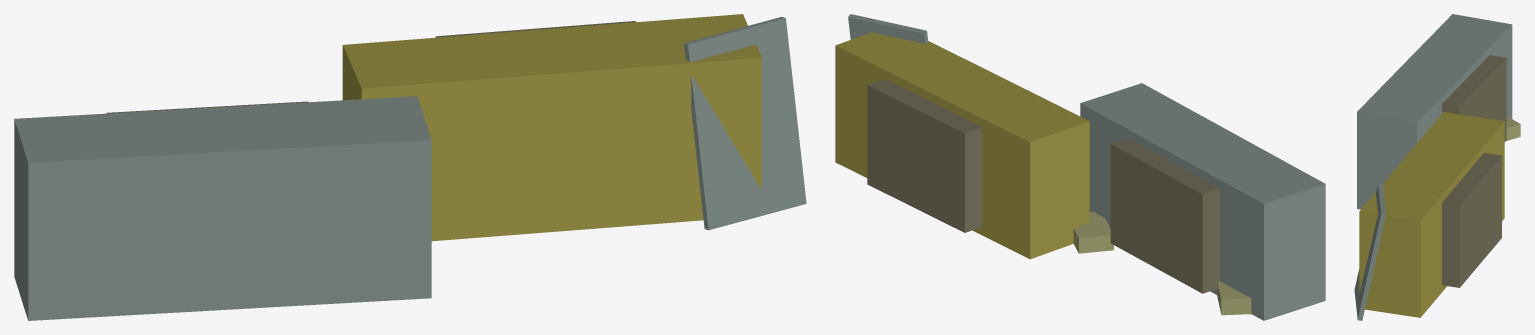
File: SM_BarricadaCivil_v0_Coches_e2_MuyDanado_LOD1.fbx
3 renders of one model, left to right at view 1: azimuth 30°, elevation 25°; view 2: azimuth 150°, elevation 25°; view 3: azimuth 270°, elevation 25°, orthographic. The views are drawn at different scales.
Visible parts, largest first — view 1: SM_barricada_civil_v2_LOD1; view 2: SM_barricada_civil_v2_LOD1; view 3: SM_barricada_civil_v2_LOD1.
Part boxes in pixels (bbox=[...]): SM_barricada_civil_v2_LOD1: bbox=[14, 14, 806, 320]; SM_barricada_civil_v2_LOD1: bbox=[835, 14, 1325, 320]; SM_barricada_civil_v2_LOD1: bbox=[1354, 14, 1520, 320].
Size of the model in its own units: 8.36 by 1.99 by 2.79.
